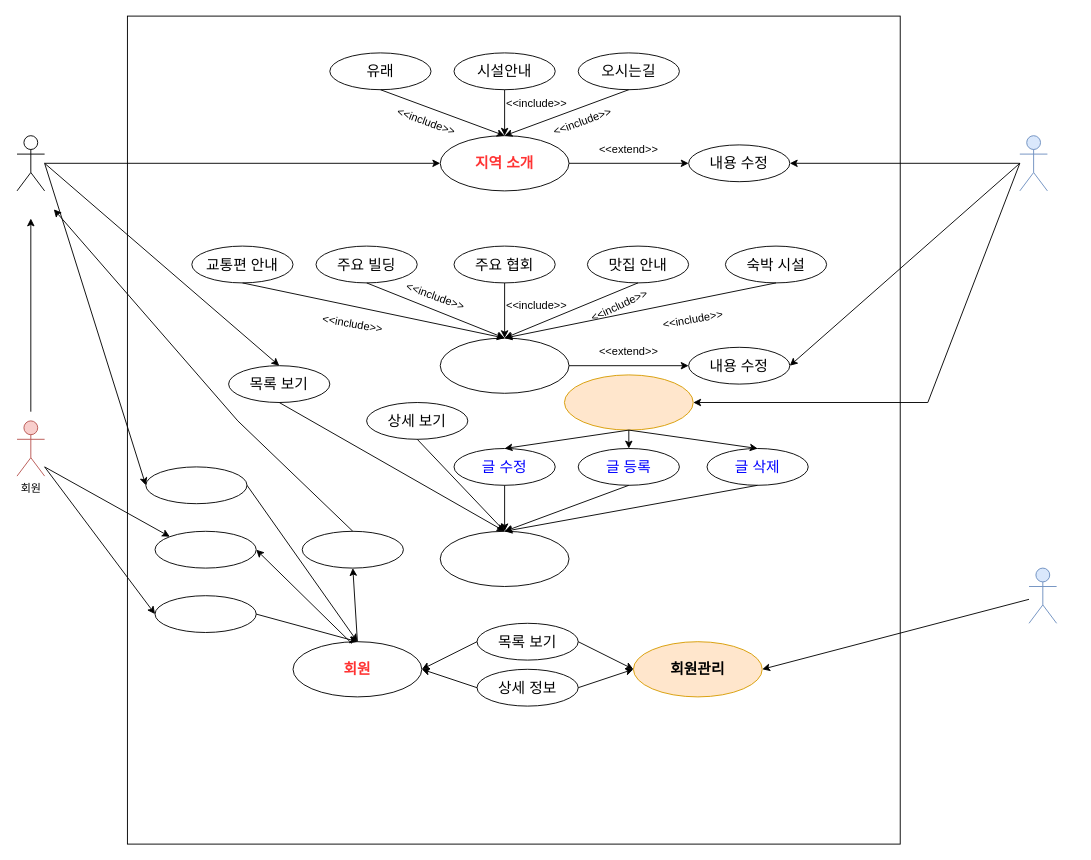
This 1091x860 diagram has some shape labels left out. The centre of each missing label's shape, as x and y in pixels:
공지 사항: point (504, 558)
글 관리: point (628, 402)
로그인: point (205, 613)
비회원: point (30, 163)
이용 안내: point (504, 365)
정보수정: point (205, 549)
콘텐츠 관리자: point (1033, 163)
탈퇴: point (352, 549)
회원 가입: point (196, 485)
회원글 관리자: point (1042, 595)
